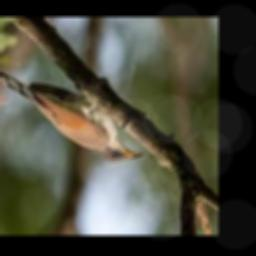Cuckoo: (0, 71, 144, 163)
